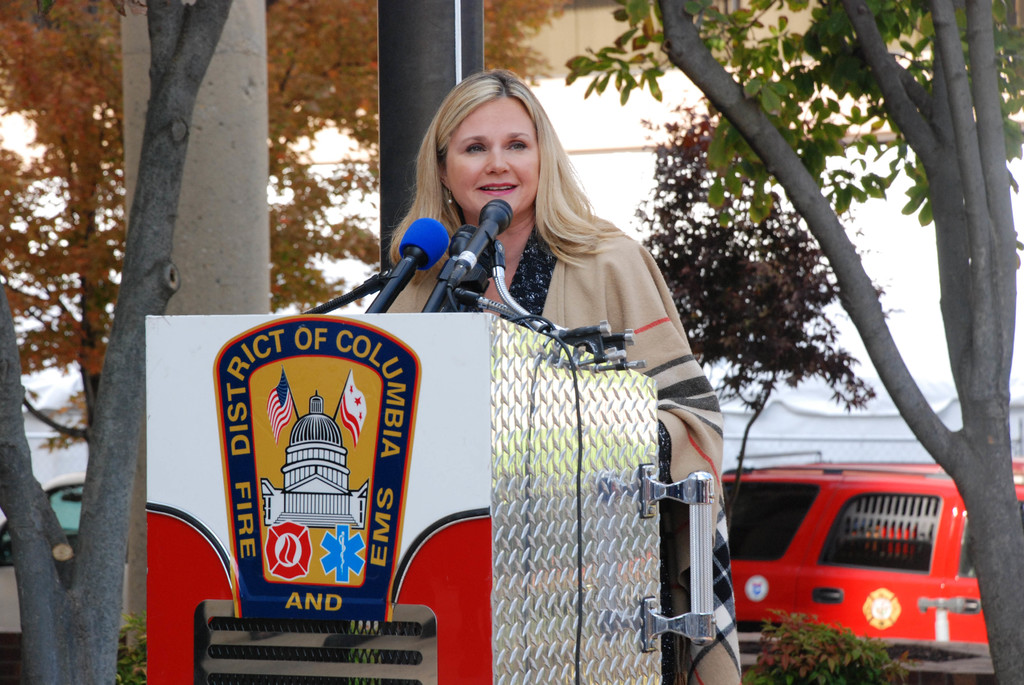Car: (720, 460, 1023, 646), (0, 470, 129, 635)
